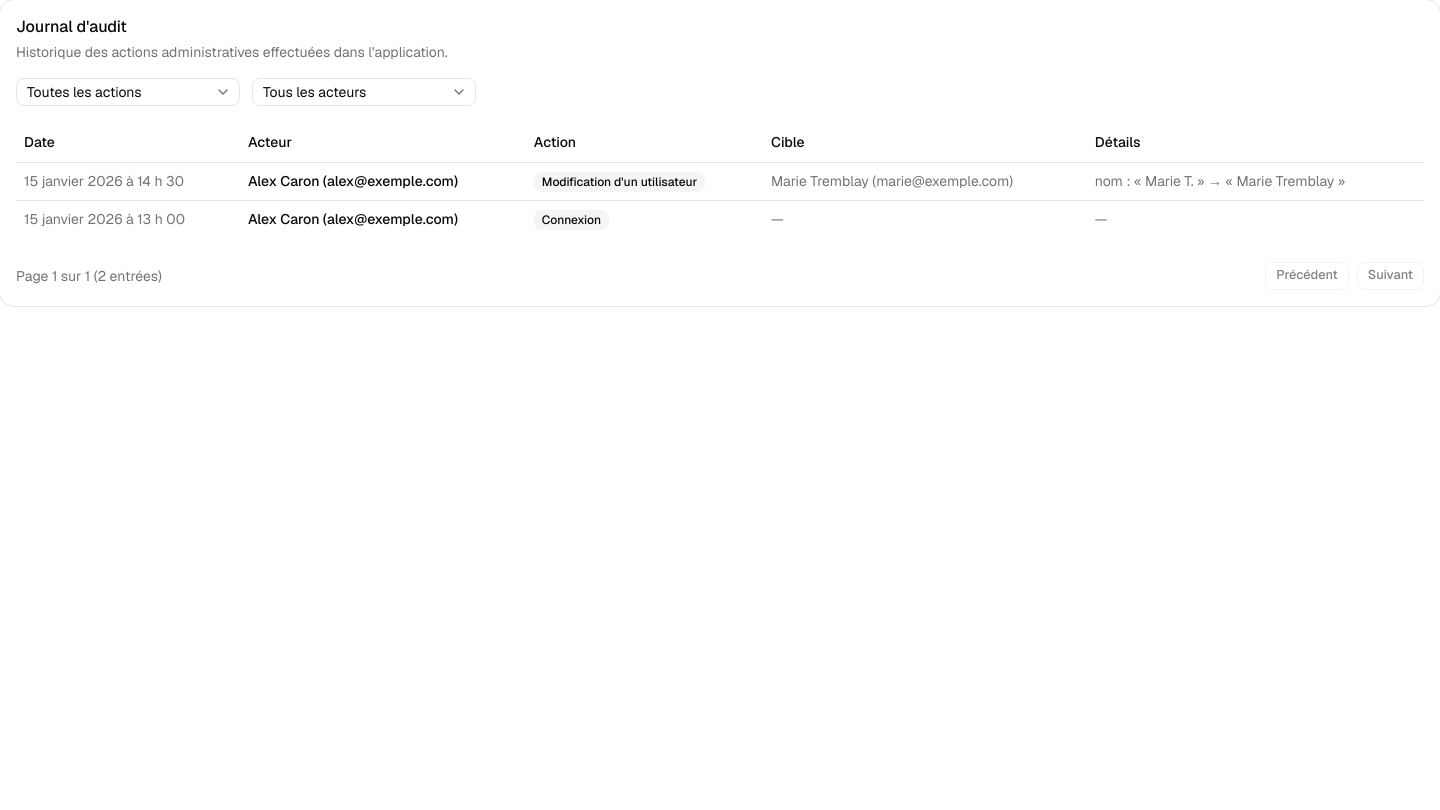
Test: AuditLogTable — filtres › propose toutes les actions du catalogue dans le filtre Action
This screenshot has width=1440, height=810.
Click the dropdown labelled "Toutes les actions ▼": (128, 92) [16, 78, 240, 106]
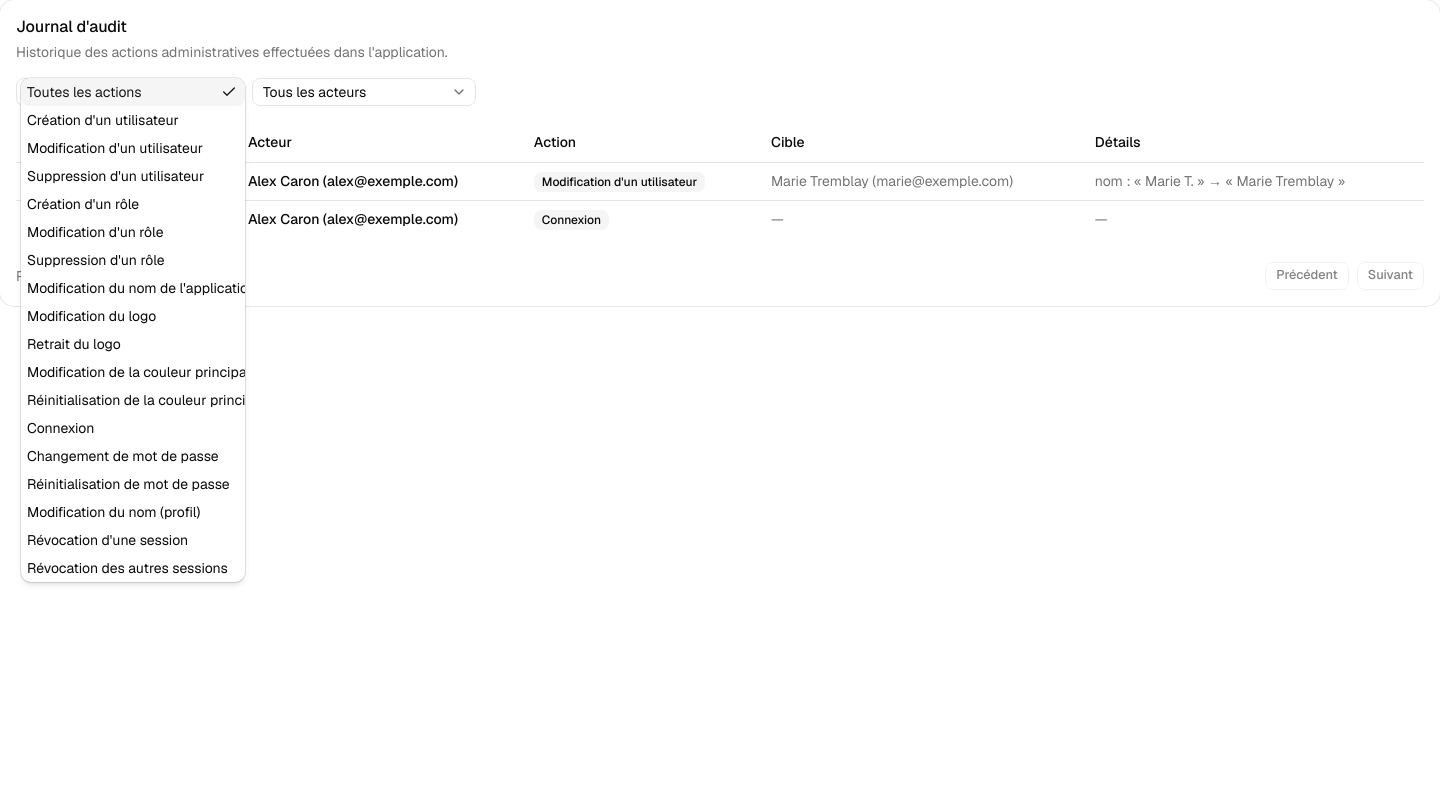
expect the option "Création d'un rôle" is shown: met, box [27, 195, 139, 213]
